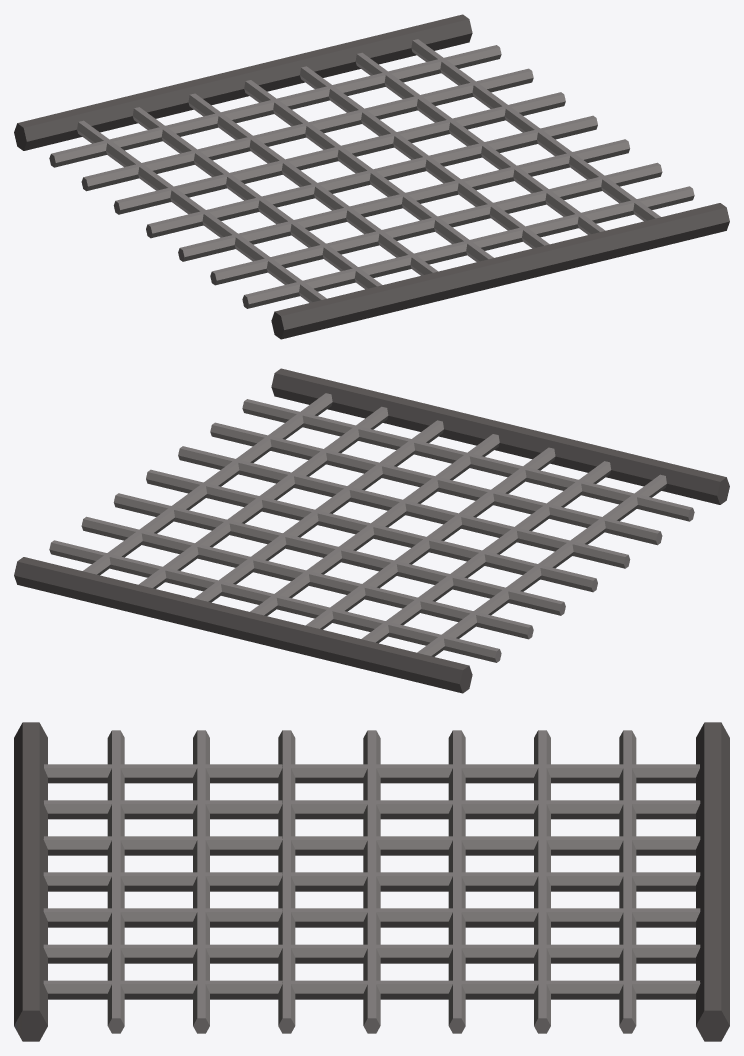
The model's file is tubeRoad.fbx.
3 renders of one model, top to bottom at view 1: azimuth 30°, elevation 25°; view 2: azimuth 150°, elevation 25°; view 3: azimuth 270°, elevation 25°, orthographic. The views are drawn at different scales.
Visible parts, largest first — view 1: Cylinder.009; view 2: Cylinder.009; view 3: Cylinder.009.
Part boxes in pixels (box(x1,y1,x2,y2)): Cylinder.009: box(14, 14, 729, 339); Cylinder.009: box(14, 368, 729, 693); Cylinder.009: box(14, 722, 729, 1041).
Bounding box in the file's own units: 400 × 20 × 420.
